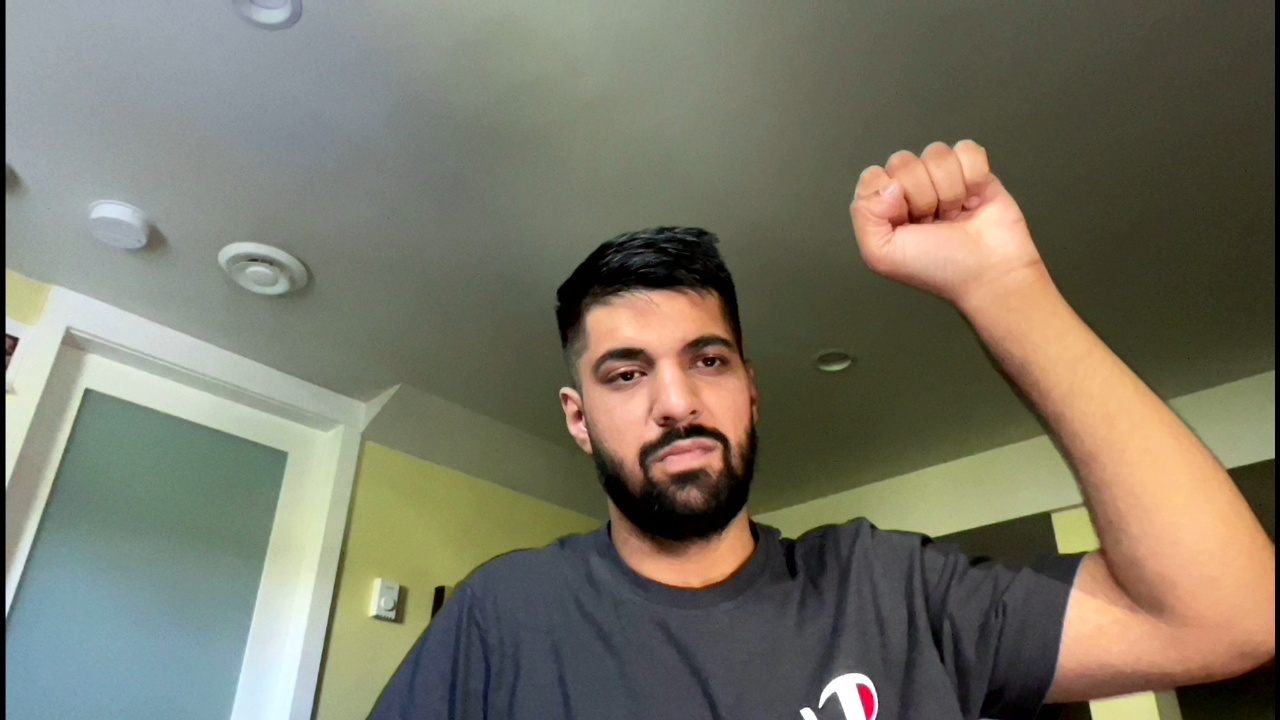No: (833, 134, 1072, 283)
